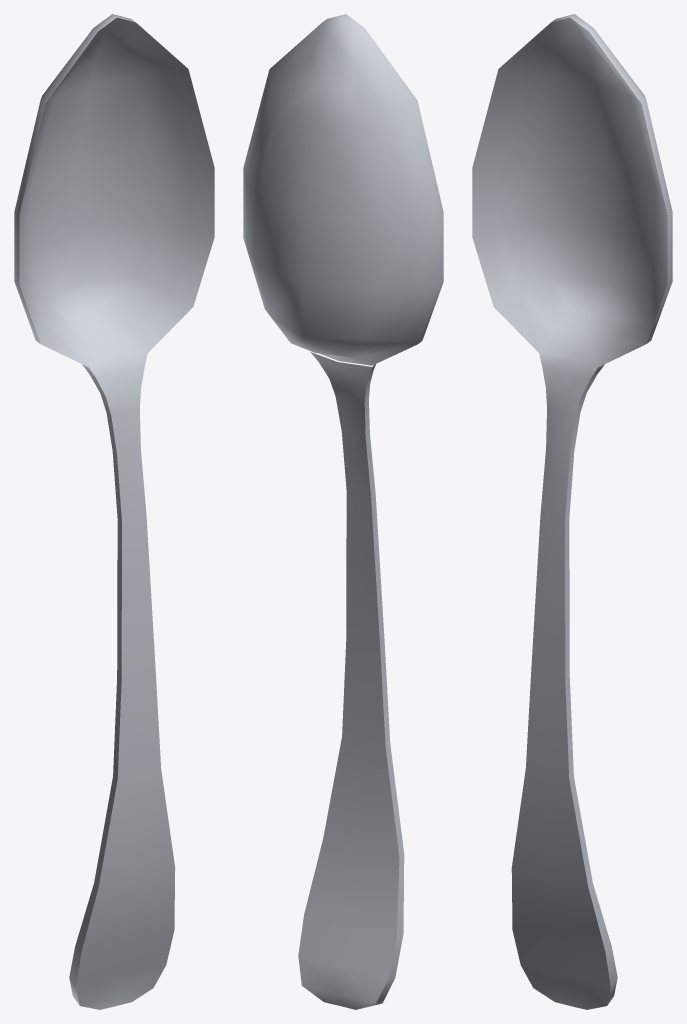
File: Spoon.glb
3 renders of one model, left to right at view 1: azimuth 30°, elevation 25°; view 2: azimuth 150°, elevation 25°; view 3: azimuth 330°, elevation 25°, orthographic.
Visible parts, largest first — view 1: utensil_spoon_Cube.027; view 2: utensil_spoon_Cube.027; view 3: utensil_spoon_Cube.027.
Part boxes in pixels (<box>): utensil_spoon_Cube.027: <box>14,14,214,1009</box>; utensil_spoon_Cube.027: <box>243,14,443,1009</box>; utensil_spoon_Cube.027: <box>472,14,672,1009</box>.
Bounding box in the file's own units: 1 × 4.84 × 0.5775.
1 material, 1 textured.
